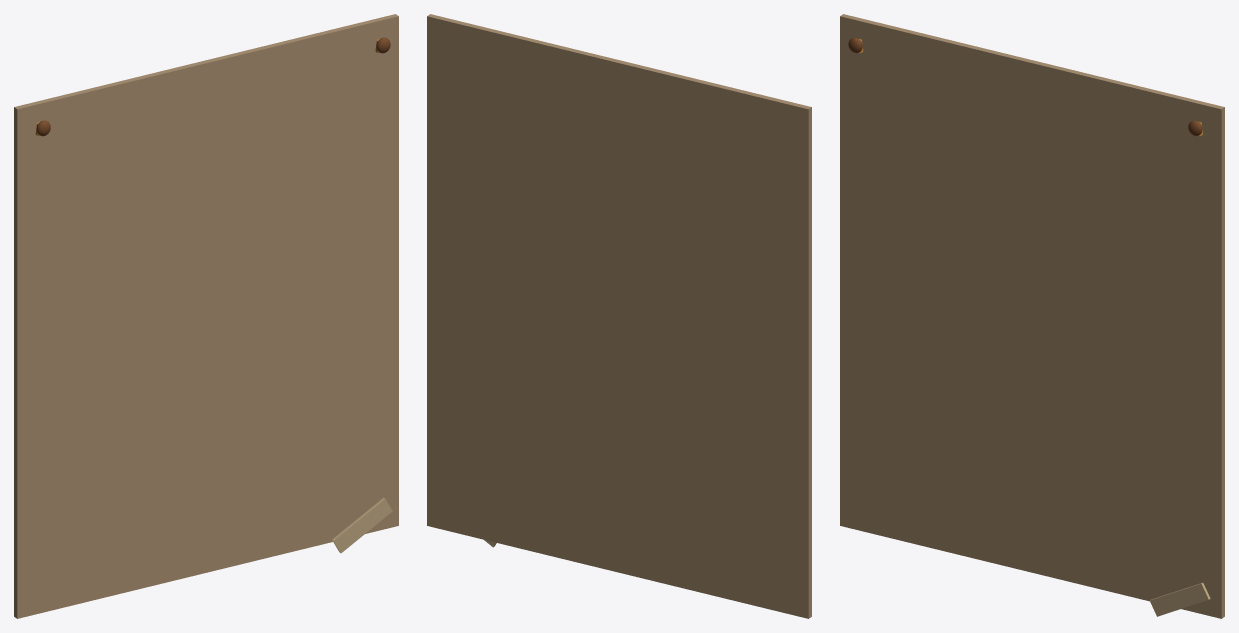
Rendered from mia-poster.glb.
3 views of the same model, side by side, from view 1: azimuth 30°, elevation 25°; view 2: azimuth 150°, elevation 25°; view 3: azimuth 330°, elevation 25° (orthographic).
Visible parts, largest first — view 1: Body_page-beige, Body_canvas; view 2: Body_page-beige; view 3: Body_page-beige, Body_canvas.
Boxes of the visible parts, box(x1,y1,x2,y2) form: Body_page-beige: box(14, 14, 398, 618); Body_canvas: box(332, 497, 392, 553); Body_page-beige: box(427, 14, 811, 618); Body_page-beige: box(840, 14, 1224, 618); Body_canvas: box(1150, 582, 1210, 616).
Size of the model in its own units: 0.905 by 1.18 by 0.0455.
